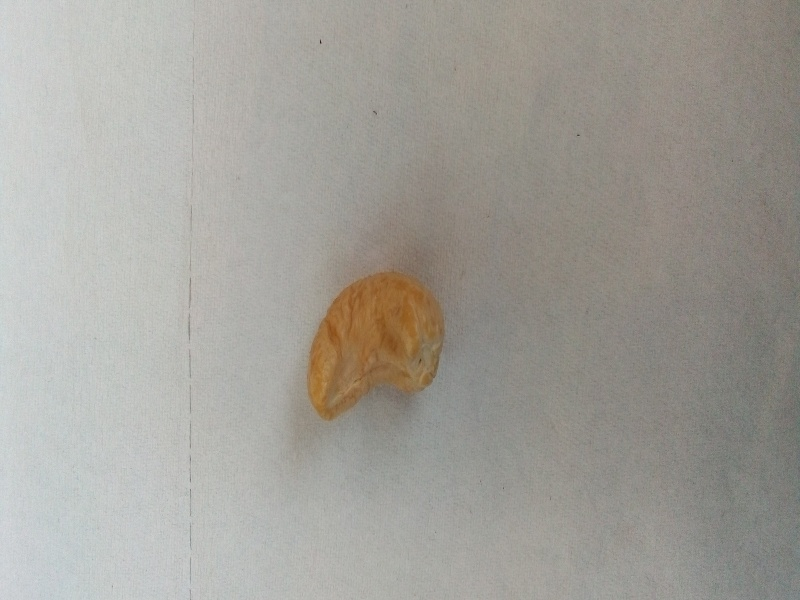cashew: (279, 251, 471, 426)
